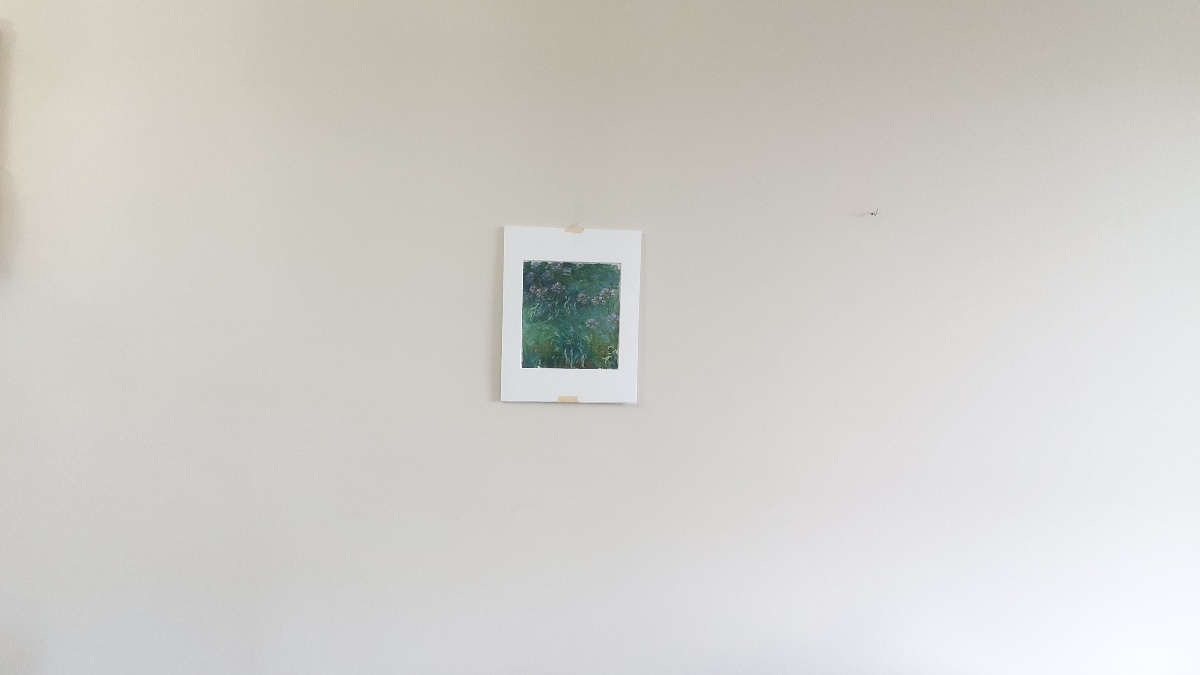painting: (515, 245, 626, 379)
